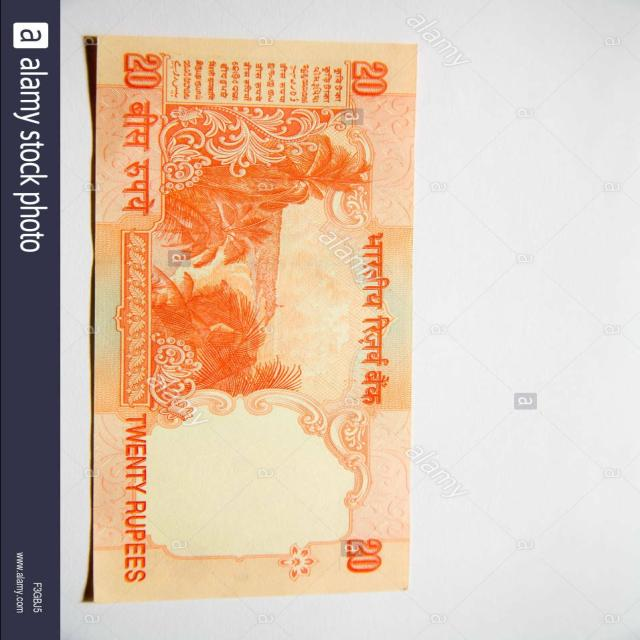20IndianRupees: (108, 34, 407, 591)
